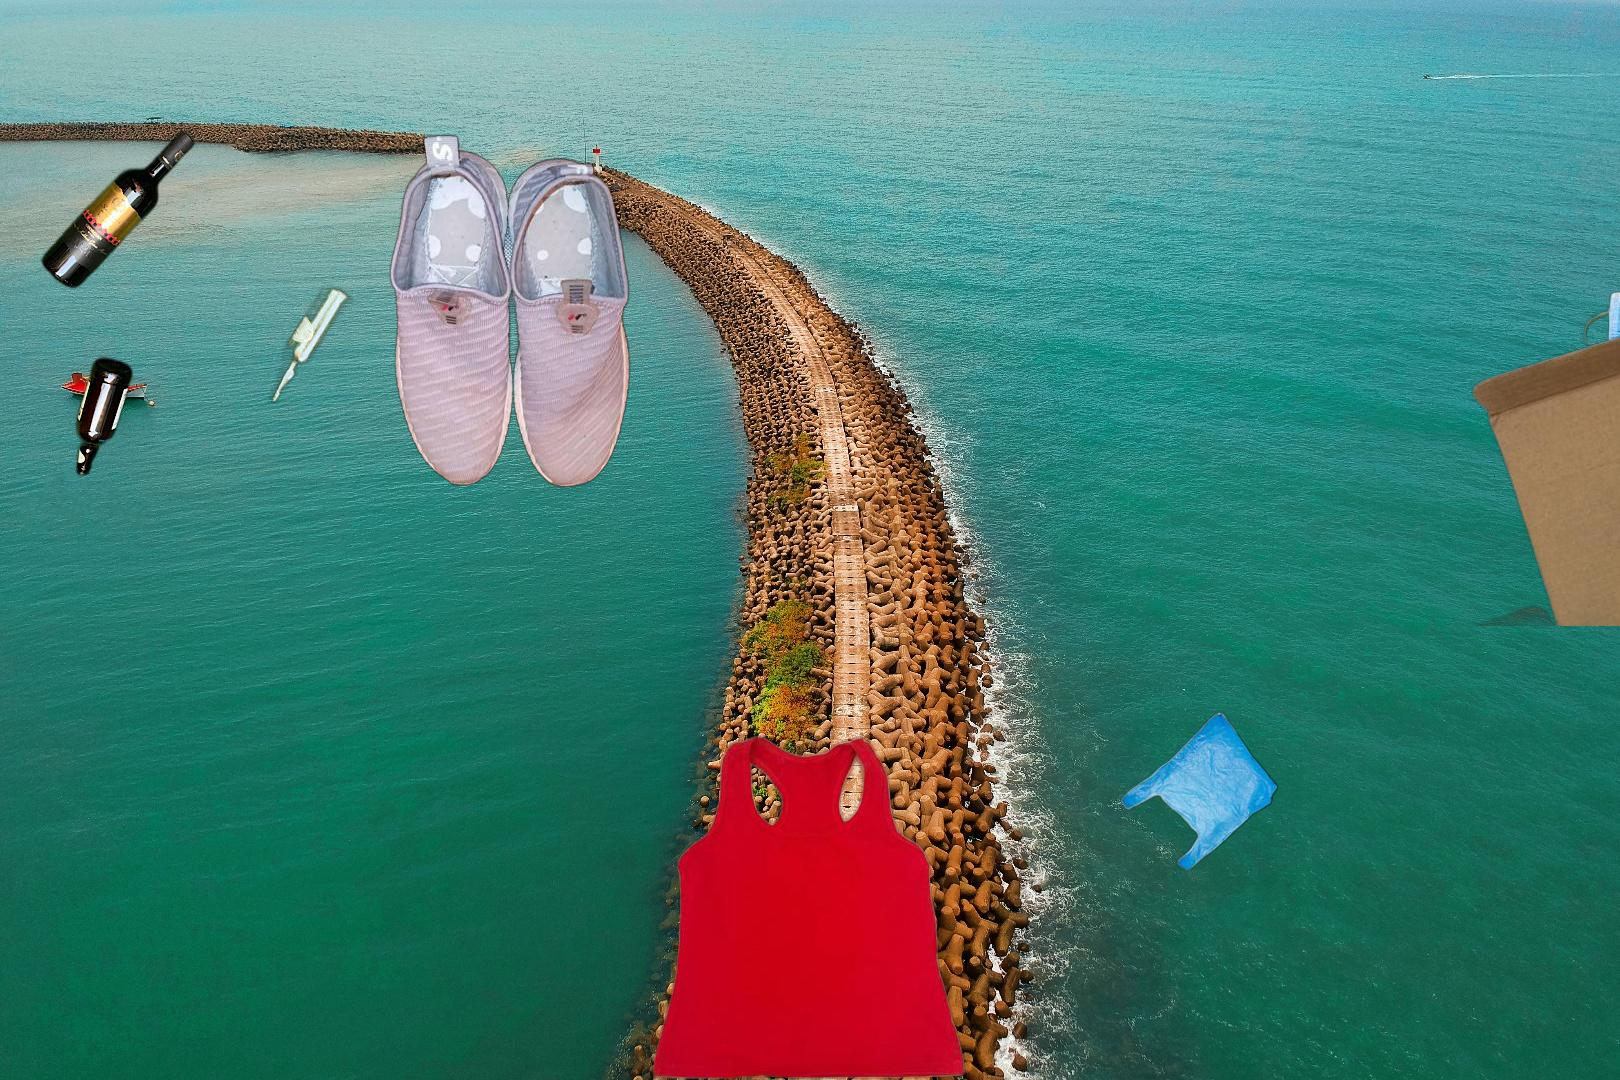clothes: (650, 732, 968, 1080)
glass: (39, 127, 360, 481)
metal-cans: (1393, 932, 1620, 1080)
plastic-bag: (1119, 709, 1366, 931)
shoes: (386, 130, 633, 492)
trash: (1579, 269, 1620, 397)
trashbox-cardboard: (1451, 242, 1620, 626)
